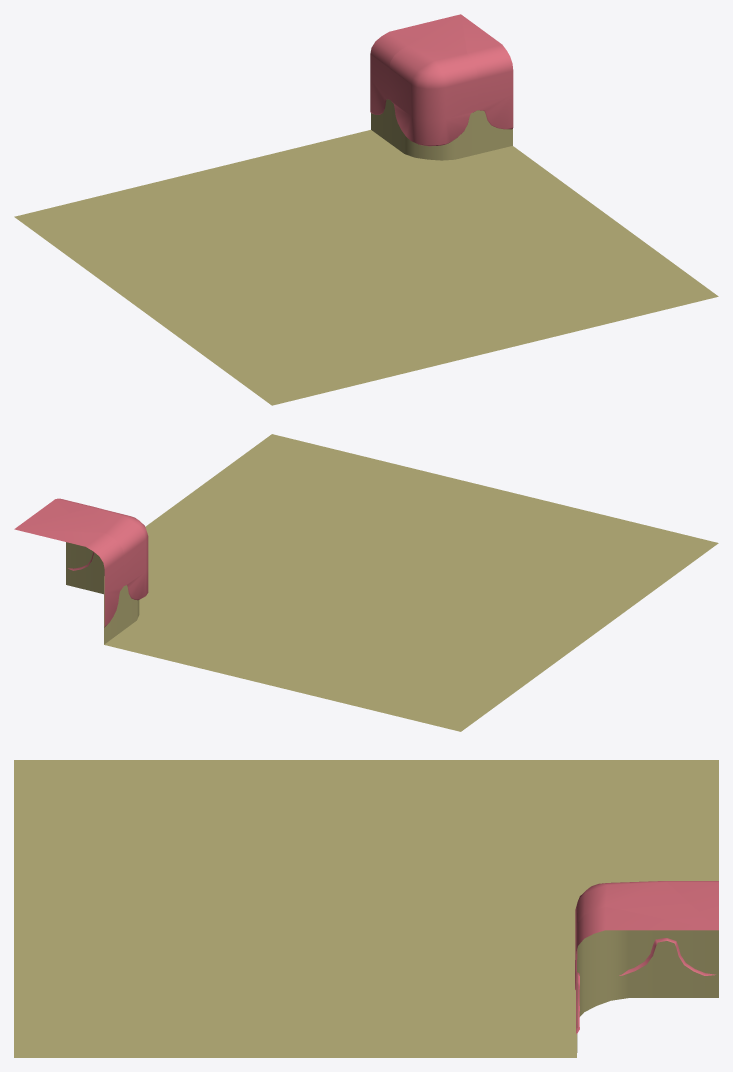
The model's file is SM_Tile_Tip.fbx.
3 renders of one model, top to bottom at view 1: azimuth 30°, elevation 25°; view 2: azimuth 150°, elevation 25°; view 3: azimuth 270°, elevation 25°, orthographic. The views are drawn at different scales.
Parts seen in each view (by area): view 1: SM_Tile_Tips_Single; view 2: SM_Tile_Tips_Single; view 3: SM_Tile_Tips_Single.
Boxes of the visible parts, x1,y1,x2,y2 form: SM_Tile_Tips_Single: (14, 14, 718, 405); SM_Tile_Tips_Single: (14, 434, 718, 731); SM_Tile_Tips_Single: (14, 760, 718, 1057).
Bounding box in the file's own units: 100 × 20 × 100.
